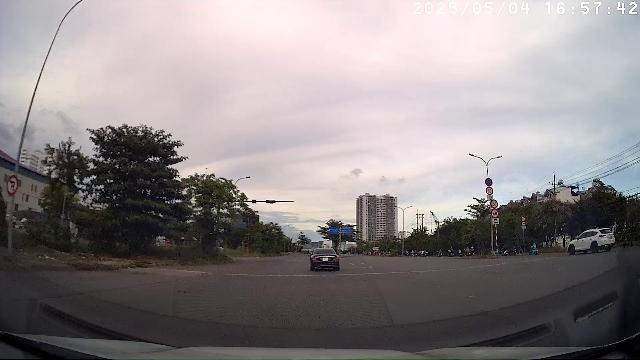127-toc-do-toi-da-60: (490, 209, 499, 218)
127-toc-do-toi-da-80: (485, 186, 494, 195)
130-cam-dung-va-do-xe: (485, 178, 493, 186)
